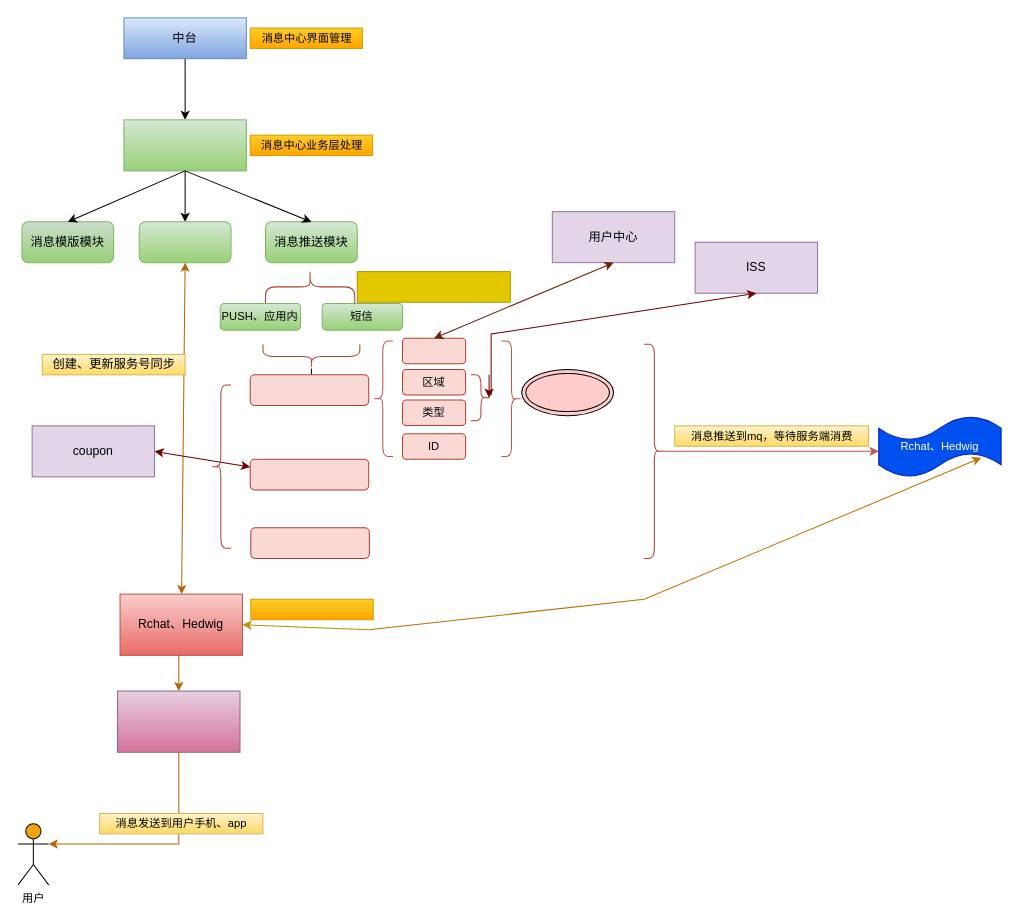
Image size: 1019x923. Some labels were removed from this diagram. The centre of each missing label's shape, as x and y in pixels:
"三方" goes at (x=178, y=721).
"优惠券" goes at (x=309, y=474).
"服务号模块" goes at (x=184, y=242).
"标签" goes at (x=433, y=350).
"根据定时推送或立即推送 对消息进行区别处理" goes at (x=433, y=286).
"消息中心" goes at (x=184, y=145).
"消息中心服务层处理" goes at (x=311, y=609).
"消息内容" goes at (x=309, y=542).
"用户ID、标签、区域、类型" goes at (x=309, y=389).
"结果取交集" goes at (x=567, y=392).
